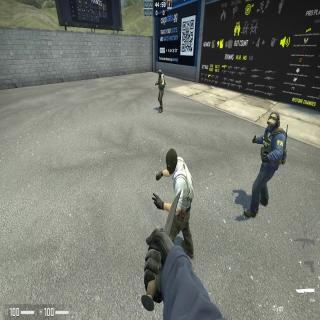CT-Body: (255, 112, 284, 216), (156, 68, 164, 110)
CT-Head: (268, 112, 279, 132), (158, 70, 162, 77)
T-Body: (166, 149, 192, 250)
T-Head: (166, 149, 177, 174)
